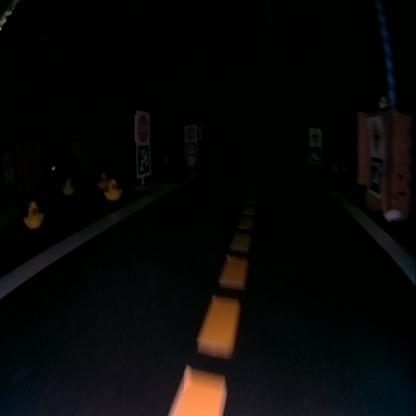Duckie: (25, 201, 43, 228), (105, 178, 121, 198), (97, 173, 107, 189), (62, 179, 73, 193)
Intersection sign: (370, 115, 384, 150), (309, 128, 321, 144)
QR code: (369, 155, 382, 196), (136, 146, 149, 175), (309, 146, 320, 162), (185, 143, 195, 156)
Stop sign: (136, 112, 149, 141), (184, 126, 196, 140)
